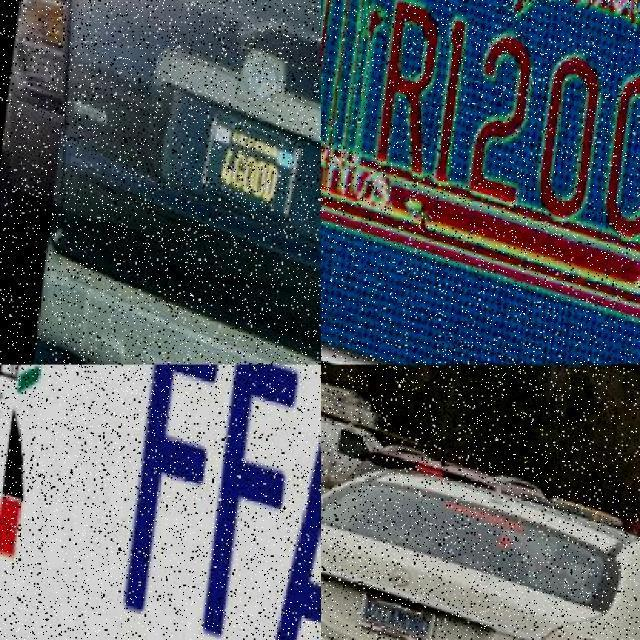LicensePlate: (332, 0, 640, 280), (69, 364, 320, 640), (192, 101, 301, 218), (350, 584, 430, 639)
